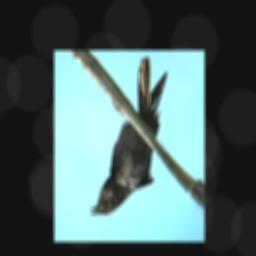Crow: (90, 55, 168, 217)
